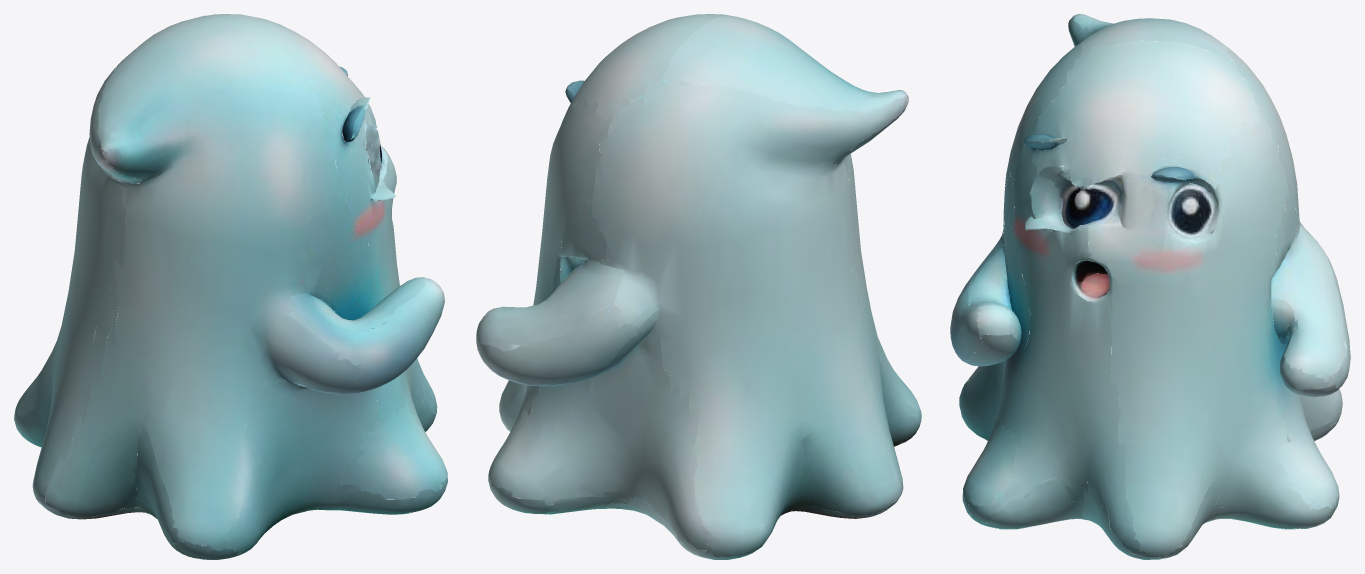
The model's file is ghost.glb.
3 renders of one model, left to right at view 1: azimuth 30°, elevation 25°; view 2: azimuth 150°, elevation 25°; view 3: azimuth 270°, elevation 25°, orthographic. The views are drawn at different scales.
Visible parts, largest first — view 1: geometry_0; view 2: geometry_0; view 3: geometry_0.
Part boxes in pixels (box(x1,y1,x2,y2)): geometry_0: box(14, 14, 447, 559); geometry_0: box(476, 14, 921, 559); geometry_0: box(950, 14, 1350, 559).
Bounding box in the file's own units: 0.9228 × 0.9997 × 0.8374.
1 material, 1 textured.
